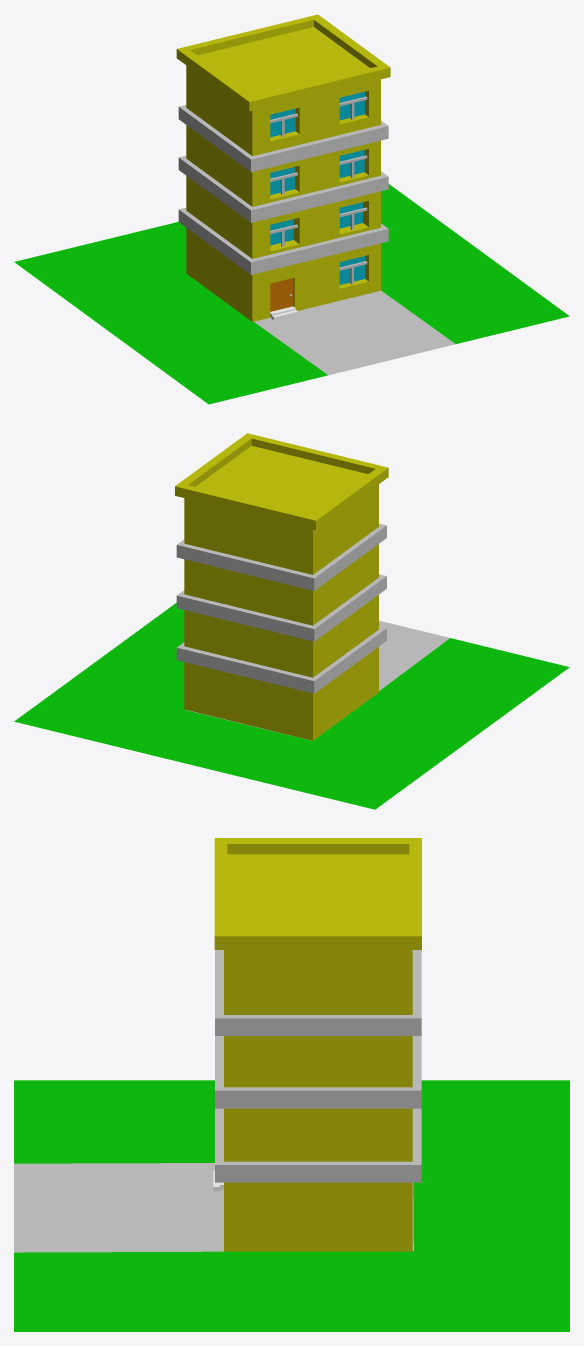
Rendered from house_yellow.obj.
The picture shows the model from 3 angles, top to bottom: view 1: azimuth 30°, elevation 25°; view 2: azimuth 150°, elevation 25°; view 3: azimuth 270°, elevation 25°; orthographic projection. The views are drawn at different scales.
Parts seen in each view (by area): view 1: Cube.523_Cube.521, Plane.103_Plane.105, Cube.003, Plane.104_Plane.106, Cube.010_Cube.005, Cube.012_Cube.008, Cube.522_Cube.520; view 2: Cube.523_Cube.521, Plane.103_Plane.105, Cube.003, Plane.104_Plane.106; view 3: Plane.103_Plane.105, Cube.523_Cube.521, Plane.104_Plane.106, Cube.003.
Part boxes in pixels (<box>): Cube.523_Cube.521: <box>176,14,390,321</box>; Plane.103_Plane.105: <box>14,184,569,404</box>; Cube.003: <box>178,105,388,274</box>; Plane.104_Plane.106: <box>254,290,455,375</box>; Cube.010_Cube.005: <box>270,91,365,284</box>; Cube.012_Cube.008: <box>270,96,367,246</box>; Cube.522_Cube.520: <box>270,278,293,311</box>; Cube.523_Cube.521: <box>175,433,388,740</box>; Plane.103_Plane.105: <box>14,603,569,809</box>; Cube.003: <box>176,523,386,693</box>; Plane.104_Plane.106: <box>185,620,449,740</box>; Plane.103_Plane.105: <box>14,1080,569,1331</box>; Cube.523_Cube.521: <box>214,838,421,1251</box>; Plane.104_Plane.106: <box>14,1163,413,1252</box>; Cube.003: <box>215,950,421,1182</box>.
Bounding box in the file's own units: 23.65 × 14.03 × 22.09.
